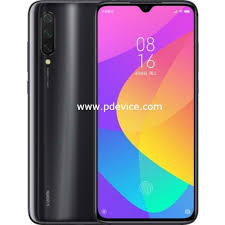mi: (94, 1, 200, 223), (26, 1, 96, 225)
